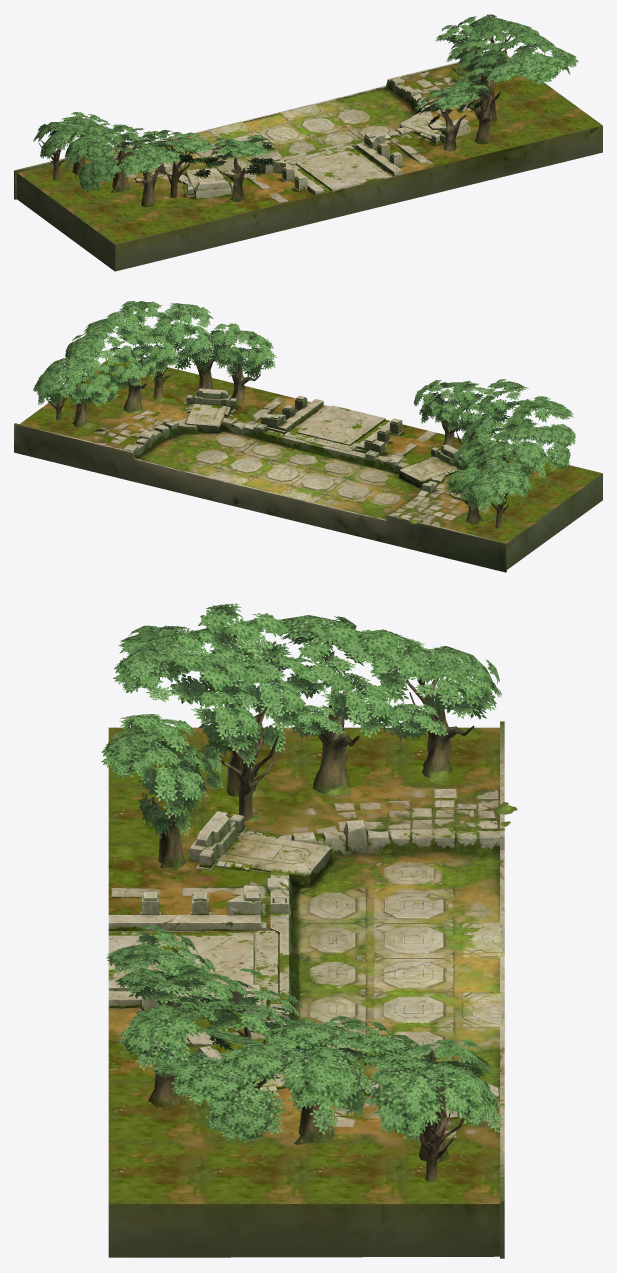
Rendered from forest_far.glb.
3 views of the same model, one above another, from view 1: azimuth 30°, elevation 25°; view 2: azimuth 150°, elevation 25°; view 3: azimuth 270°, elevation 25° (orthographic). The views are drawn at different scales.
Parts seen in each view (by area): view 1: ground_boundary_1_78ad, ground_boundary_0_78ad, leaf01_0_9c7a, frame01_0_78f3, f_l_base_01_0_789b, f_base_02_0_8561, woods01_lr_0_7f58, woods03_l_0_929c, leaf02_l_08_0_99e6, leaf02_l_06_0_794f, woods05_r_0_7a0f, woods07_r_0_78f5 (+3 smaller); view 2: leaf01_0_9c7a, ground_boundary_1_78ad, ground_boundary_0_78ad, frame01_0_78f3, f_base_02_0_8561, f_l_base_01_0_789b, woods01_lr_0_7f58, leaf02_l_06_0_794f, leaf02_l_01_0_796a, leaf02_l_04_0_78f1, leaf02_l_03_0_9ed3, leaf02_l_08_0_99e6 (+10 smaller); view 3: ground_boundary_1_78ad, leaf01_0_9c7a, frame01_0_78f3, ground_boundary_0_78ad, f_base_02_0_8561, f_l_base_01_0_789b, woods01_lr_0_7f58, leaf02_r_06_0_7890, leaf02_r_08_0_791f, leaf02_r_04_0_78cb, leaf02_r_03_0_78b6, leaf02_r_01_0_7893 (+14 smaller).
Part boxes in pixels (x1,y1,x2,y2): ground_boundary_1_78ad: [17, 55, 602, 244]; ground_boundary_0_78ad: [14, 50, 602, 271]; leaf01_0_9c7a: [33, 14, 578, 191]; frame01_0_78f3: [126, 77, 470, 199]; f_l_base_01_0_789b: [246, 87, 416, 145]; f_base_02_0_8561: [139, 121, 336, 175]; woods01_lr_0_7f58: [39, 36, 511, 207]; woods03_l_0_929c: [465, 94, 493, 144]; leaf02_l_08_0_99e6: [435, 19, 478, 43]; leaf02_l_06_0_794f: [446, 32, 494, 61]; woods05_r_0_7a0f: [109, 139, 136, 192]; woods07_r_0_78f5: [216, 155, 245, 201]; leaf01_0_9c7a: [33, 301, 575, 514]; ground_boundary_1_78ad: [19, 355, 602, 543]; ground_boundary_0_78ad: [14, 423, 602, 572]; frame01_0_78f3: [123, 388, 468, 516]; f_base_02_0_8561: [271, 447, 421, 519]; f_l_base_01_0_789b: [136, 428, 290, 493]; woods01_lr_0_7f58: [47, 353, 517, 528]; leaf02_l_06_0_794f: [100, 349, 144, 389]; leaf02_l_01_0_796a: [237, 333, 276, 374]; leaf02_l_04_0_78f1: [134, 330, 184, 370]; leaf02_l_03_0_9ed3: [170, 325, 213, 362]; leaf02_l_08_0_99e6: [63, 371, 107, 405]; ground_boundary_1_78ad: [108, 727, 499, 1203]; leaf01_0_9c7a: [101, 603, 501, 1143]; frame01_0_78f3: [108, 811, 499, 1098]; ground_boundary_0_78ad: [108, 721, 504, 1258]; f_base_02_0_8561: [292, 851, 504, 1004]; f_l_base_01_0_789b: [293, 960, 499, 1087]; woods01_lr_0_7f58: [139, 668, 465, 1181]; leaf02_r_06_0_7890: [310, 647, 393, 737]; leaf02_r_08_0_791f: [376, 654, 489, 719]; leaf02_r_04_0_78cb: [235, 655, 323, 732]; leaf02_r_03_0_78b6: [191, 690, 261, 753]; leaf02_r_01_0_7893: [133, 746, 203, 818].
Bounding box in the file's own units: 119 × 24.87 × 44.06.
Materials: 4 (4 with a texture image).
